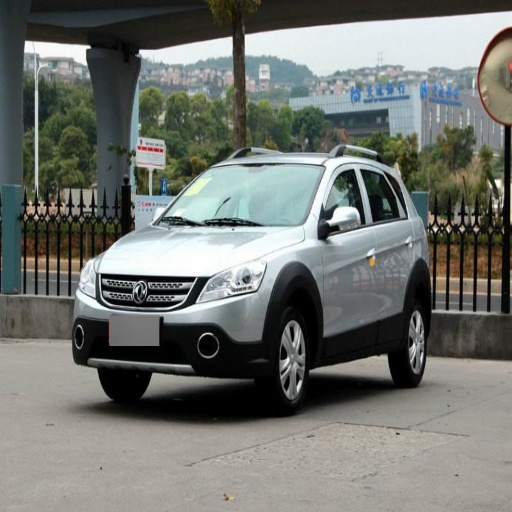front_bumper: (71, 271, 272, 378)
front_glass: (155, 167, 323, 226)
front_left_door: (319, 164, 378, 344)
